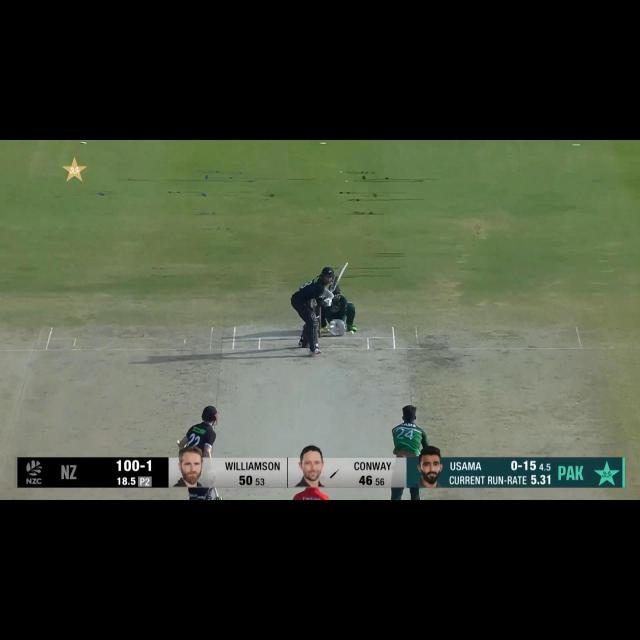bat: (328, 259, 354, 294), (212, 490, 224, 500)
toe: (338, 260, 351, 272)
